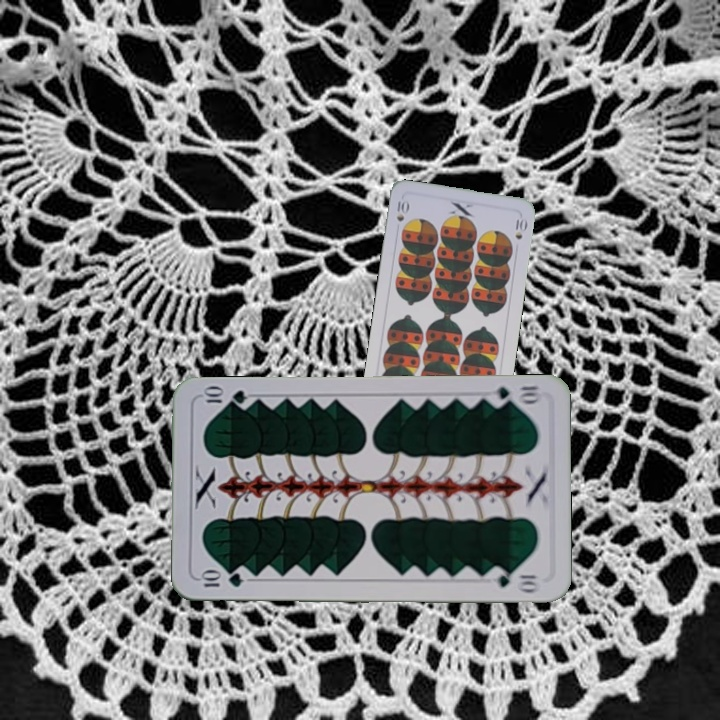G10: (485, 381, 544, 409), (196, 569, 246, 590)
S10: (393, 194, 411, 224)
